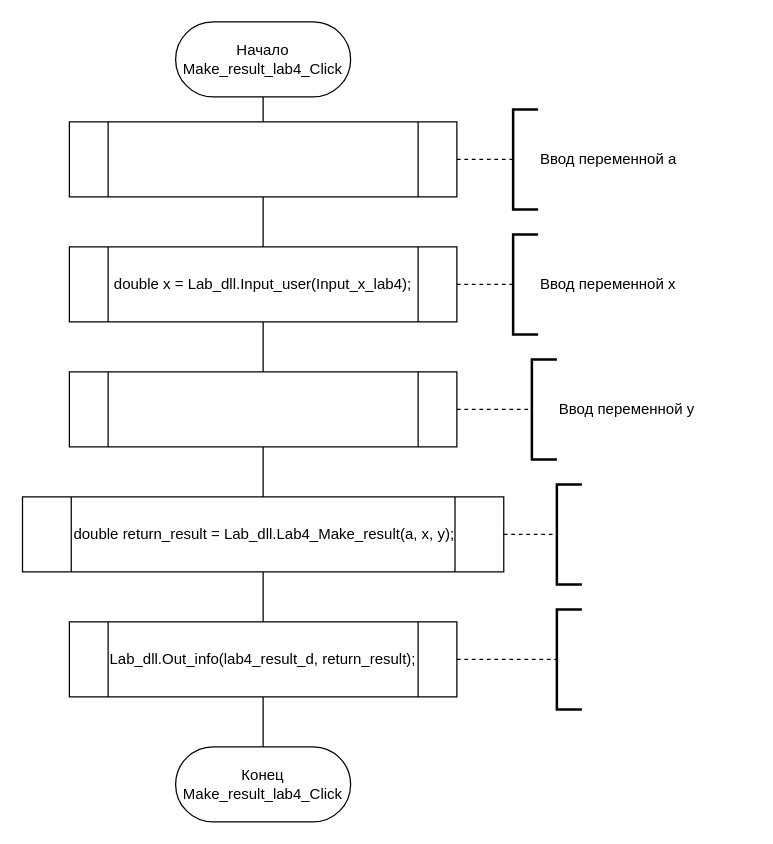
The diagram is 773 pixels wide and 844 high, and some of its shapes have lost their labels. The shapes that lost their labels are listed below. From the top down, each one's centre as x and y in pixels, then its label:
pixel 262 159: double a = Lab_dll.Input_user(Input_a_lab4);
pixel 262 409: double y = Lab_dll.Input_user(Input_y_lab4);
pixel 568 533: Вычисление значения m
pixel 568 659: Вывод значения m
